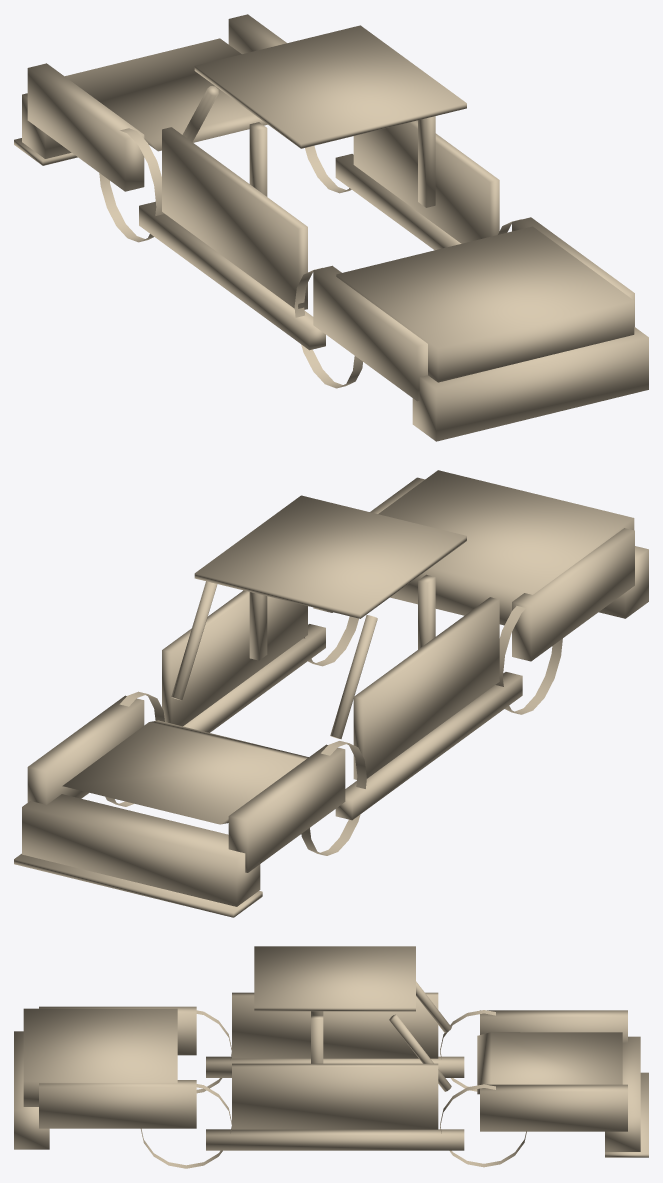
The model's file is body_offroad_4x4.glb.
3 views of the same model, one above another, from view 1: azimuth 30°, elevation 25°; view 2: azimuth 150°, elevation 25°; view 3: azimuth 270°, elevation 25° (orthographic). The views are drawn at different scales.
Visible parts, largest first — view 1: BODY_Cabin, BODY_RearClip, BODY_FrontClip; view 2: BODY_Cabin, BODY_FrontClip, BODY_RearClip; view 3: BODY_Cabin, BODY_RearClip, BODY_FrontClip.
Part boxes in pixels (left/top/right/bottom): BODY_Cabin: left=139, top=25, right=499, bottom=350; BODY_RearClip: left=294, top=217, right=648, bottom=441; BODY_FrontClip: left=14, top=14, right=351, bottom=242; BODY_Cabin: left=162, top=495, right=522, bottom=820; BODY_FrontClip: left=14, top=691, right=366, bottom=917; BODY_RearClip: left=304, top=470, right=648, bottom=714; BODY_Cabin: left=206, top=946, right=464, bottom=1150; BODY_RearClip: left=14, top=1006, right=232, bottom=1168; BODY_FrontClip: left=440, top=1010, right=648, bottom=1167.
Size of the model in its own units: 1.85 by 1.62 by 6.08.
